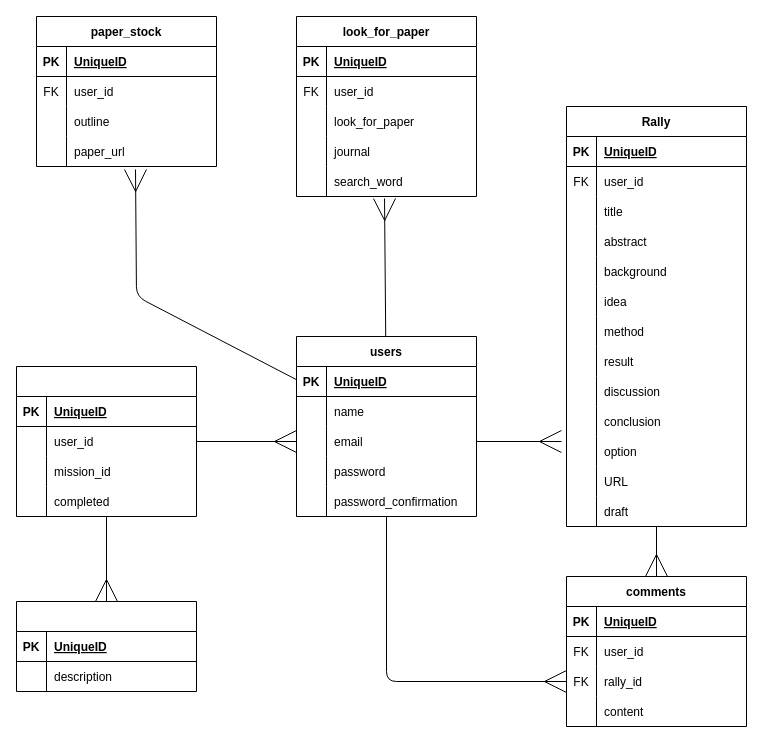
The diagram is 763 pixels wide and 743 high, and some of its shapes have lost their labels. The shapes that lost their labels are listed below. From the top down, each one's box as (x1, y1, x2, y2) in pixels, then its label:
(16, 366, 196, 516): user_missions
(16, 600, 196, 692): missions
